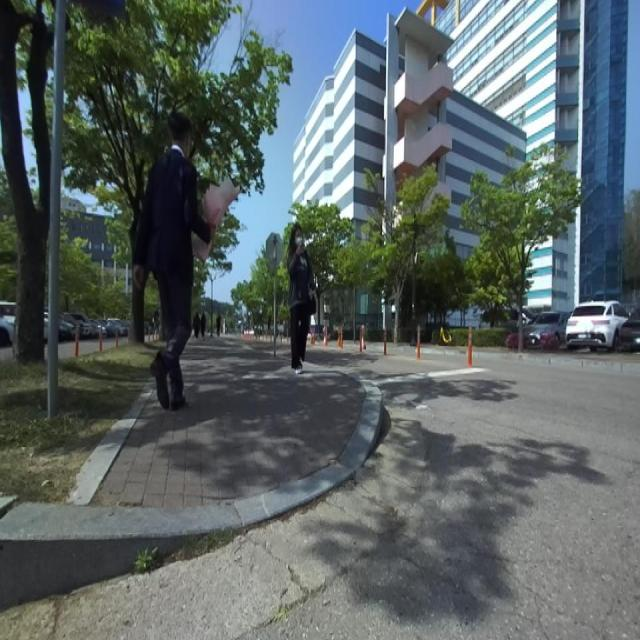sidewalk: (92, 338, 364, 508), (524, 351, 640, 362)
